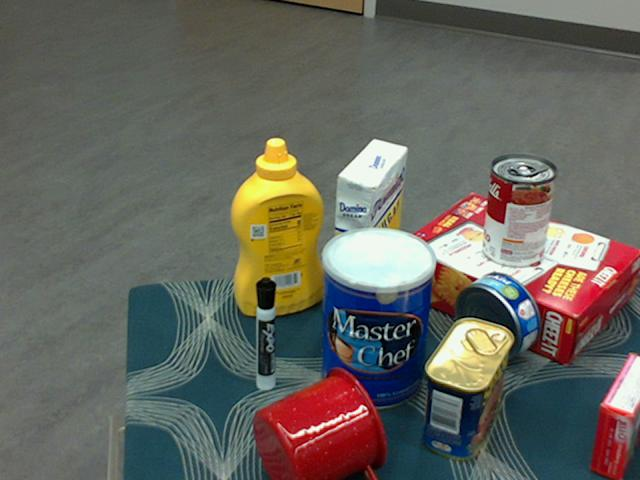cracker_box: (394, 195, 638, 361)
gelatin_box: (588, 353, 639, 479)
large_marker: (254, 276, 274, 391)
master_chef_can: (321, 227, 437, 411)
mug: (252, 367, 388, 479)
mustard_bottle: (230, 138, 323, 317)
potted_meat_can: (423, 318, 514, 460)
sugar_box: (329, 140, 408, 328)
tomato_soup_can: (482, 156, 556, 269)
tuna_fish_can: (455, 271, 541, 360)
